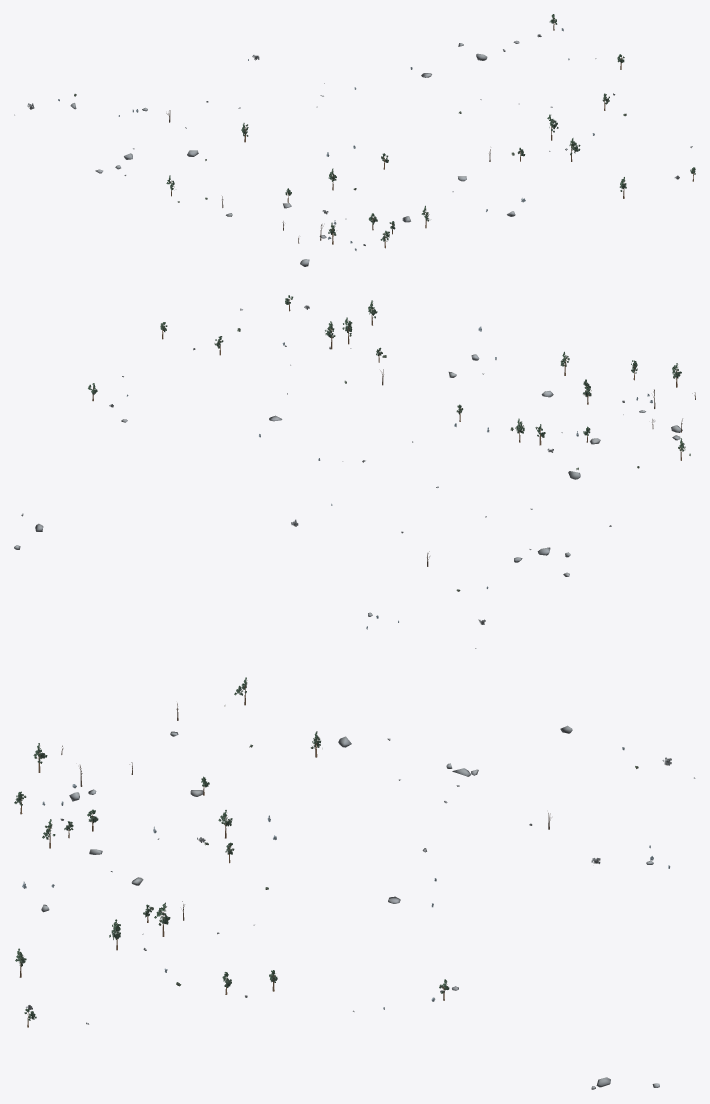
The model's file is frost_land_scatter_c20_09.glb.
3 renders of one model, top to bottom at view 1: azimuth 30°, elevation 25°; view 2: azimuth 150°, elevation 25°; view 3: azimuth 270°, elevation 25°, orthographic. The views are drawn at different scales.
Visible parts, largest first — view 1: frost_land_scatter_c20_09; view 2: frost_land_scatter_c20_09; view 3: frost_land_scatter_c20_09.
Boxes of the visible parts, x1,y1,x2,y2 form: frost_land_scatter_c20_09: [14, 14, 695, 266]; frost_land_scatter_c20_09: [14, 295, 695, 648]; frost_land_scatter_c20_09: [14, 677, 695, 1089].
Size of the model in its own units: 254 by 53.25 by 243.
